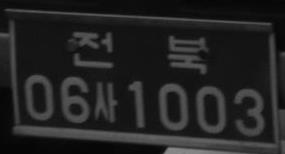0: (194, 84, 227, 133), (23, 73, 55, 121), (157, 82, 188, 130)
1: (124, 80, 153, 128)
3: (233, 87, 265, 136)
6: (60, 75, 91, 124)
사: (92, 82, 118, 123)
전북_D: (72, 30, 207, 74)
